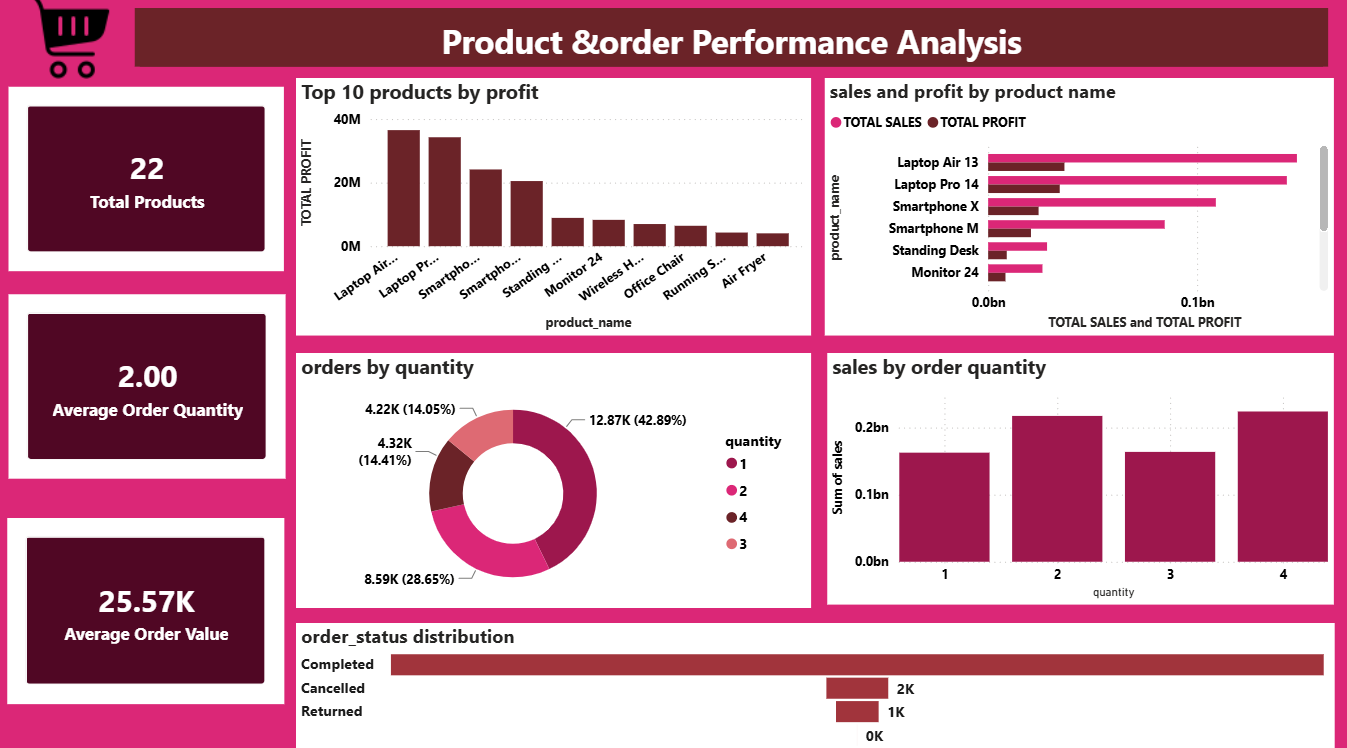

This screenshot's page, from the dashboard's own definition file:
{"tool":"powerbi","page":{"name":"Product and order analysis","canvas":[1280,720],"ordinal":1},"visuals":[{"type":"textbox","title":"Product &order Performance Analysis","box":[130.9,18.5,1123.5,55.6],"z":0},{"type":"cardVisual","fields":{"Data":["novacart.Average Order Quantity"]},"box":[12.1,288.3,260.6,173.7],"z":1000},{"type":"cardVisual","fields":{"Data":["novacart.Average Order Value"]},"box":[10.9,498.3,260.6,174.9],"z":2000},{"type":"cardVisual","fields":{"Data":["novacart.Total Products"]},"box":[12.1,92.9,259.4,173.7],"z":3000},{"type":"donutChart","title":"orders by quantity","fields":{"Category":["novacart.quantity"],"Y":["CountNonNull(novacart.order_id)"]},"box":[282.3,343.8,485,240.1],"z":4000},{"type":"clusteredColumnChart","title":"Top 10 products by profit","fields":{"Category":["novacart.product_name"],"Y":["novacart.TOTAL PROFIT"]},"box":[282.3,84.5,485,242.5],"z":5000},{"type":"clusteredBarChart","title":"sales and profit by product name","fields":{"Y":["novacart.TOTAL SALES","novacart.TOTAL PROFIT"],"Category":["novacart.product_name"]},"box":[780.6,84.5,479,242.5],"z":6000},{"type":"funnel","title":" order_status distribution","fields":{"Category":["novacart.order_status"],"Y":["novacart.TOTAL ORDERS"]},"box":[282.5,597.2,977.5,122.8],"z":7000},{"type":"columnChart","title":" sales by order quantity","fields":{"Category":["novacart.quantity"],"Y":["Sum(novacart.sales)"]},"box":[781.8,343.8,476.5,236.5],"z":8000},{"type":"image","box":[31.4,7.2,78.4,78.4],"z":9000}]}

Visuals, with their boxes in screenshot pixels (x1, y1, x2, y2), scaled from the page's 1280x720 canvas onto the 1347x748 screenshot:
"Product &order Performance Analysis" textbox: 138/19/1320/77
cardVisual - novacart.Average Order Quantity: 13/300/287/480
cardVisual - novacart.Average Order Value: 11/518/286/699
cardVisual - novacart.Total Products: 13/97/286/277
"orders by quantity" donutChart: 297/357/807/607
"Top 10 products by profit" clusteredColumnChart: 297/88/807/340
"sales and profit by product name" clusteredBarChart: 821/88/1326/340
" order_status distribution" funnel: 297/620/1326/747
" sales by order quantity" columnChart: 823/357/1324/603
image: 33/7/116/89
